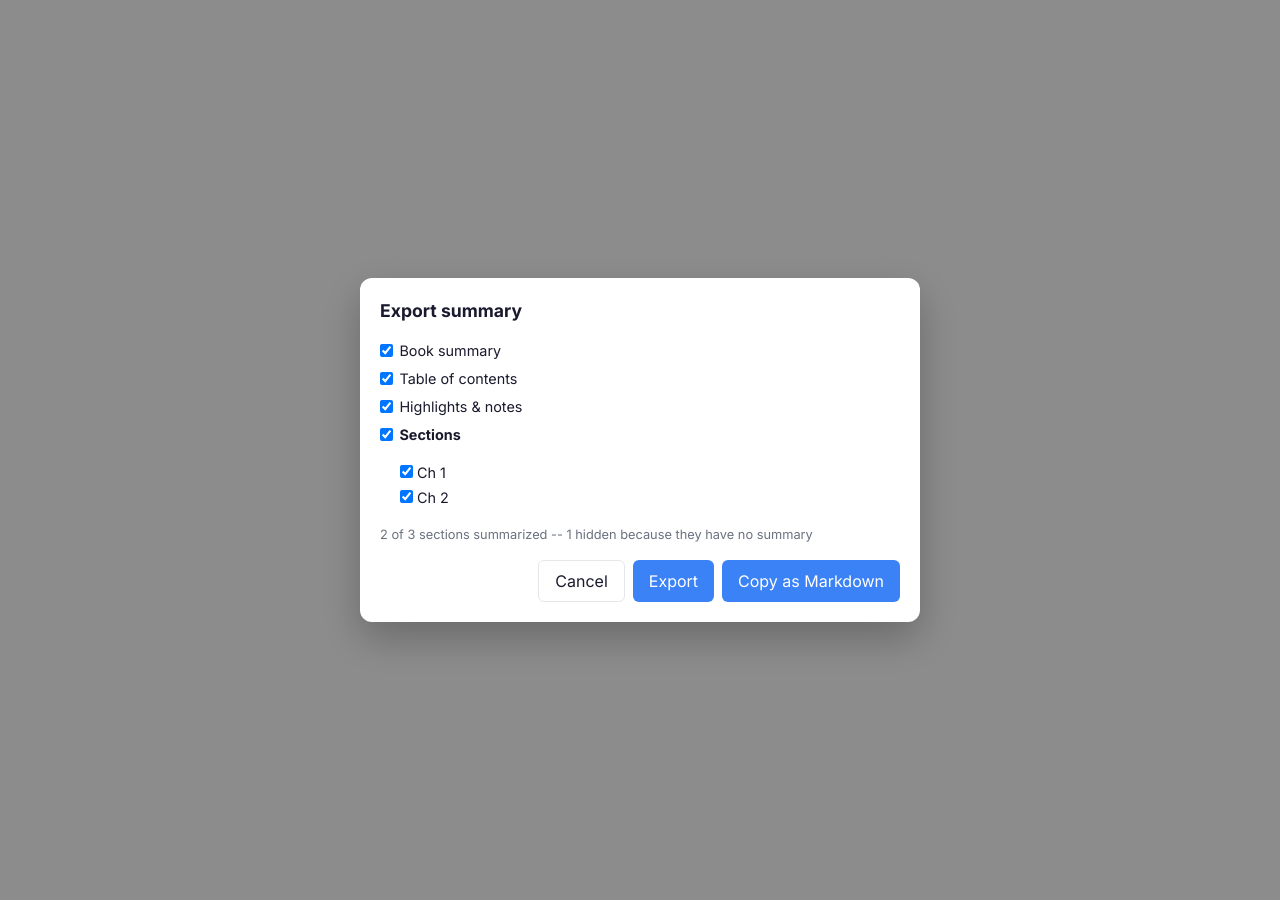
Test: ExportCustomizeModal › Sections master toggle is indeterminate when partial
The image size is (1280, 900).
Click the checkbox with test id "section-checkbox-10" at (406,471), box [400,465,413,478]
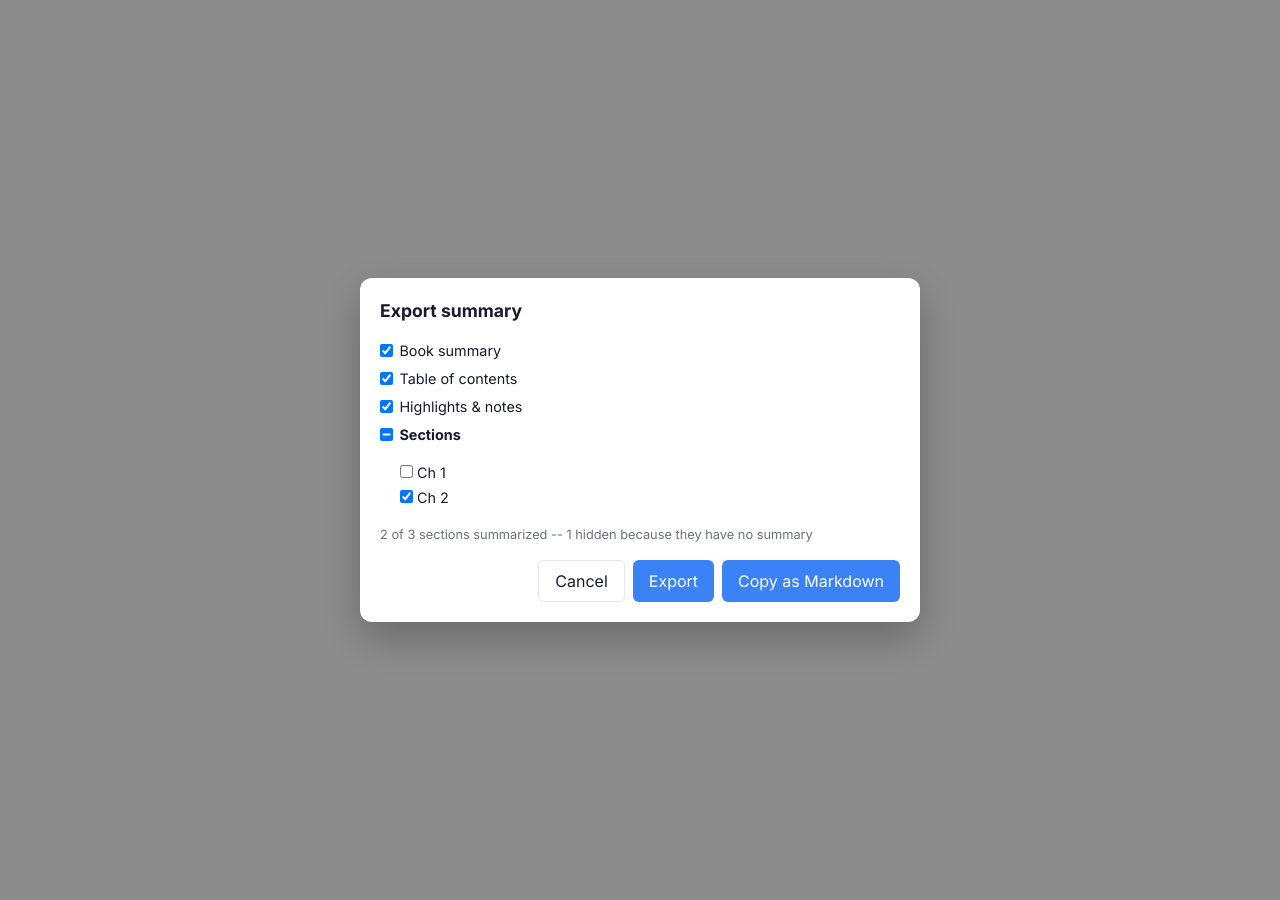
Result: the checkbox with test id "sections-master" showing "Sections" is not checked at [380,428,393,442]
